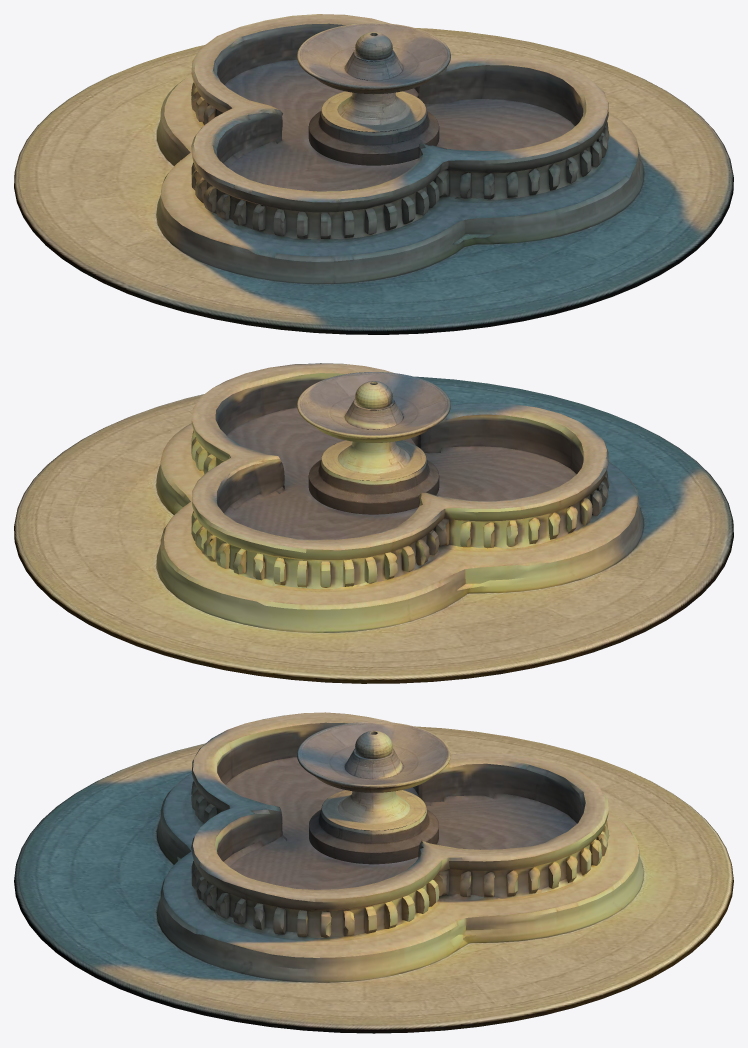
File: fountain.gltf
3 views of the same model, one above another, from view 1: azimuth 30°, elevation 25°; view 2: azimuth 150°, elevation 25°; view 3: azimuth 270°, elevation 25° (orthographic).
Visible parts, largest first — view 1: 00Retopo_stone_fountain.002_1; view 2: 00Retopo_stone_fountain.002_1; view 3: 00Retopo_stone_fountain.002_1.
Part boxes in pixels (left/top/right/bottom): 00Retopo_stone_fountain.002_1: left=14, top=14, right=733, bottom=334; 00Retopo_stone_fountain.002_1: left=14, top=363, right=733, bottom=683; 00Retopo_stone_fountain.002_1: left=14, top=712, right=733, bottom=1033.
Bounding box in the file's own units: 11.49 × 2.61 × 11.49.
Materials: 3 (3 with a texture image).
